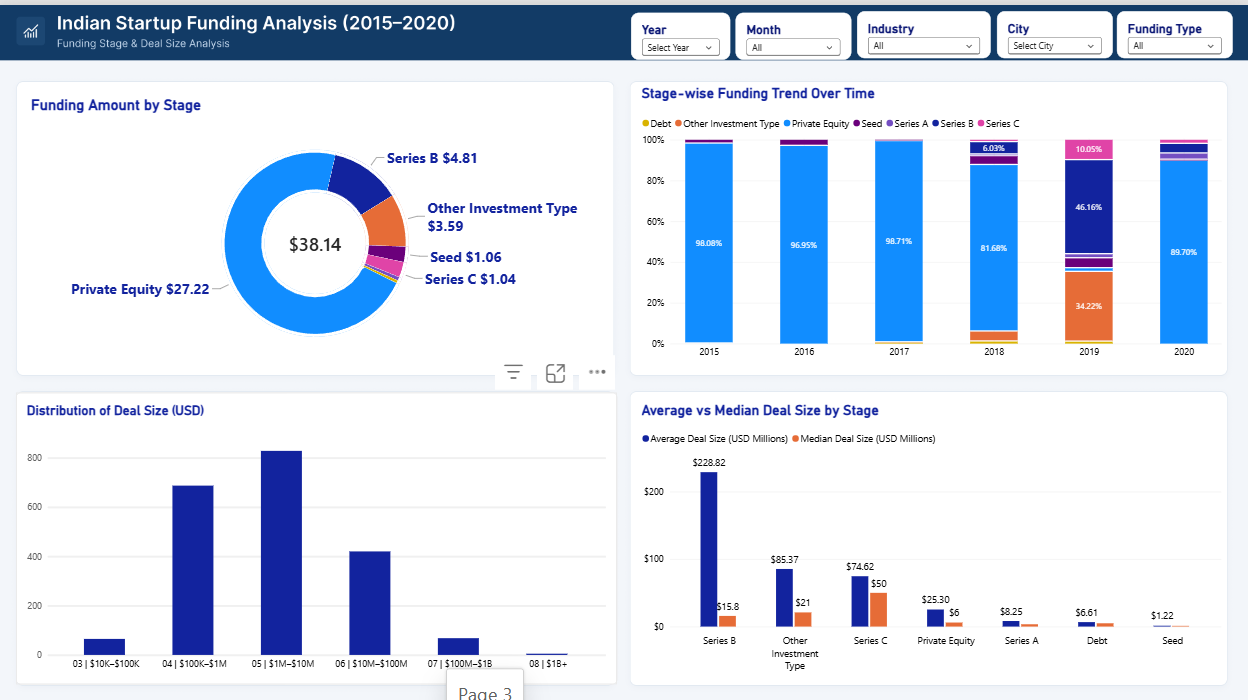

Layout of this report page (visuals, bound fields, positions):
{"tool":"powerbi","page":{"name":"Page 3","canvas":[1920,1080],"ordinal":2},"visuals":[{"type":"listSlicer","fields":{"Values":["Calendar.Month"]},"box":[1132.5,11.1,177.5,72.5],"z":0},{"type":"listSlicer","title":"Industry","fields":{"Values":["cleaned_dataset.Industry"]},"box":[1320,8.6,205,72.5],"z":1000},{"type":"listSlicer","title":"Funding Type","fields":{"Values":["cleaned_dataset.Investment_Type_Clean"]},"box":[1717.5,8.6,177.5,72.5],"z":2000},{"type":"listSlicer","fields":{"Values":["Calendar.Year"]},"box":[972.5,11.1,152.5,72.5],"z":3000},{"type":"listSlicer","title":"City","fields":{"Values":["cleaned_dataset.City"]},"box":[1535,8.6,177.5,72.5],"z":4000},{"type":"donutChart","title":" Funding Amount by Stage","fields":{"Category":["cleaned_dataset.Funding Stage"],"Y":["Calendar.Total Funding USD (Billions)"]},"box":[37.7,124.9,902.5,440.6],"z":5000},{"type":"hundredPercentStackedColumnChart","title":"Stage-wise Funding Trend Over Time","fields":{"Category":["cleaned_dataset.Date.Variation.Date Hierarchy.Year"],"Series":["cleaned_dataset.Funding Stage"],"Y":["Calendar.Total Funding USD (Billions)"]},"box":[973.2,108.4,921.3,454.8],"z":6000},{"type":"clusteredColumnChart","title":"Distribution of Deal Size (USD)","fields":{"Category":["cleaned_dataset.Deal Size Band Ordered"],"Y":["CountNonNull(cleaned_dataset.Deal Size Band Sort)"]},"box":[30.6,593.8,921.3,447.7],"z":7000},{"type":"clusteredColumnChart","title":"Average vs Median Deal Size by Stage","fields":{"Category":["cleaned_dataset.Funding Stage"],"Y":["Calendar.Average Deal Size (USD Millions)","Calendar.Median Deal Size (USD Millions)"]},"box":[973,594,921,448],"z":8000}]}

Visuals, with their boxes on the page's 1920x1080 design canvas (x1, y1, x2, y2). These are canvas units, not pixel positions in the 1248x700 screenshot, which may show the page scaled, cropped or inside an application window:
listSlicer - Calendar.Month: x1=1132 y1=11 x2=1310 y2=84
"Industry" listSlicer: x1=1320 y1=9 x2=1525 y2=81
"Funding Type" listSlicer: x1=1718 y1=9 x2=1895 y2=81
listSlicer - Calendar.Year: x1=972 y1=11 x2=1125 y2=84
"City" listSlicer: x1=1535 y1=9 x2=1712 y2=81
" Funding Amount by Stage" donutChart: x1=38 y1=125 x2=940 y2=566
"Stage-wise Funding Trend Over Time" hundredPercentStackedColumnChart: x1=973 y1=108 x2=1894 y2=563
"Distribution of Deal Size (USD)" clusteredColumnChart: x1=31 y1=594 x2=952 y2=1042
"Average vs Median Deal Size by Stage" clusteredColumnChart: x1=973 y1=594 x2=1894 y2=1042
